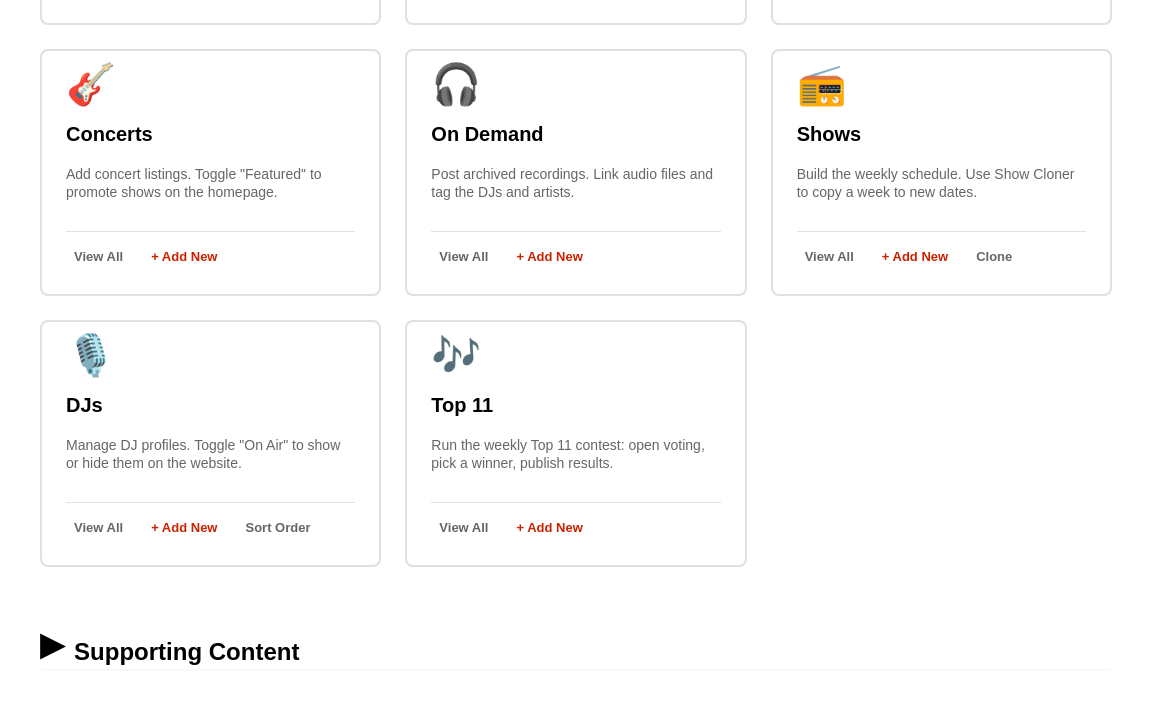
it: CustomDashboard › secondary collections accordion › expands when toggle is clicked
(page scrolled)
Click the button "▸ Supporting Content" at (187, 652), box [40,615,1112,669]
(page scrolled)
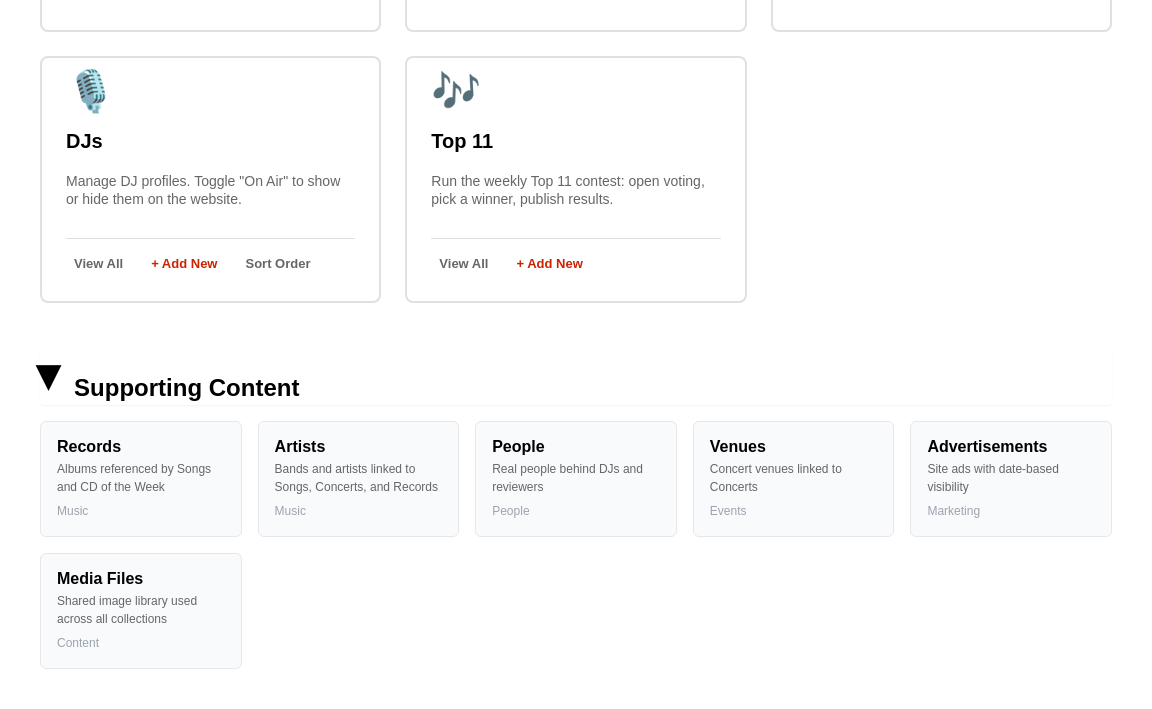
expect the text "Records" is shown: met, box [57,438,121,455]
expect the text "Artists" is shown: met, box [275,438,325,455]
expect the 1st text "People" is shown: met, box [492,438,545,455]
